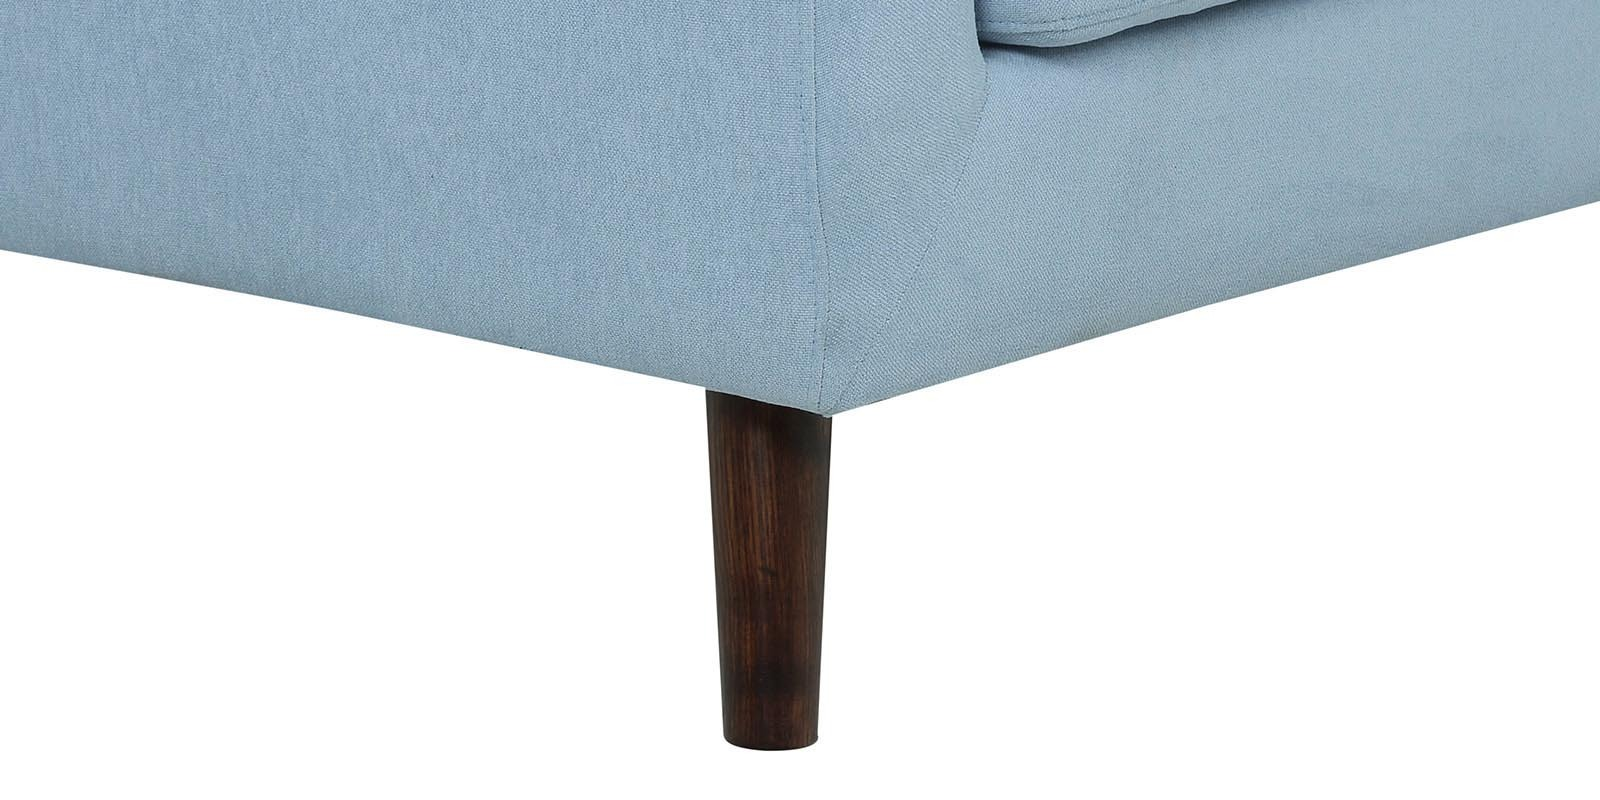Juan Three Seater Sofs in Ice Blue Colour by CasaCraft: (1, 1, 1595, 752)
